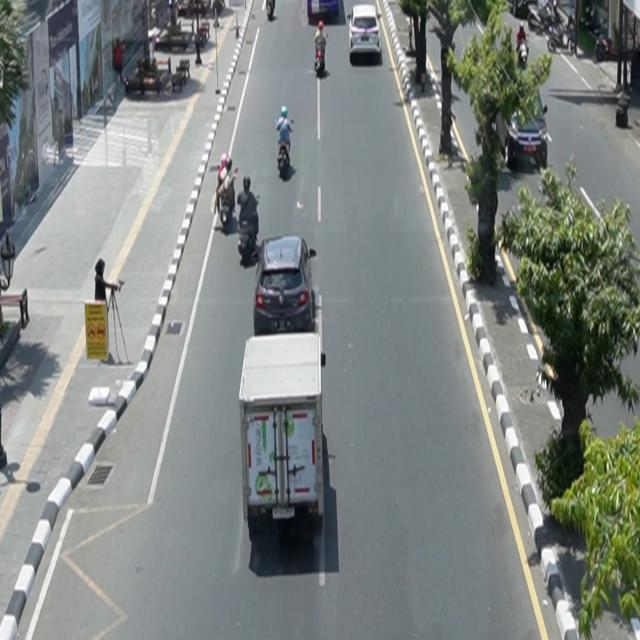bus: (239, 331, 326, 533)
car: (254, 235, 318, 336), (495, 86, 553, 170), (348, 4, 382, 57)
